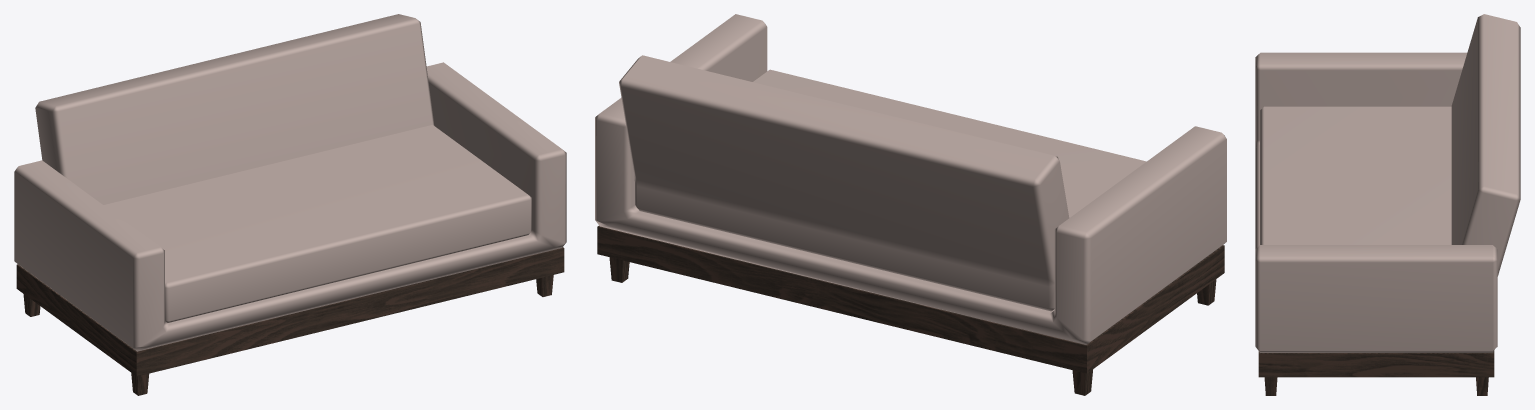
File: sofa_002.fbx
3 renders of one model, left to right at view 1: azimuth 30°, elevation 25°; view 2: azimuth 150°, elevation 25°; view 3: azimuth 270°, elevation 25°, orthographic. The views are drawn at different scales.
Visible parts, largest first — view 1: sofa_002; view 2: sofa_002; view 3: sofa_002.
Part boxes in pixels (x1,y1,x2,y2): sofa_002: (14,14,566,395); sofa_002: (595,14,1226,395); sofa_002: (1255,14,1520,395).
Bounding box in the file's own units: 277 × 150 × 123.
